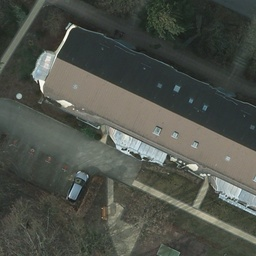car: (68, 170, 89, 201)
